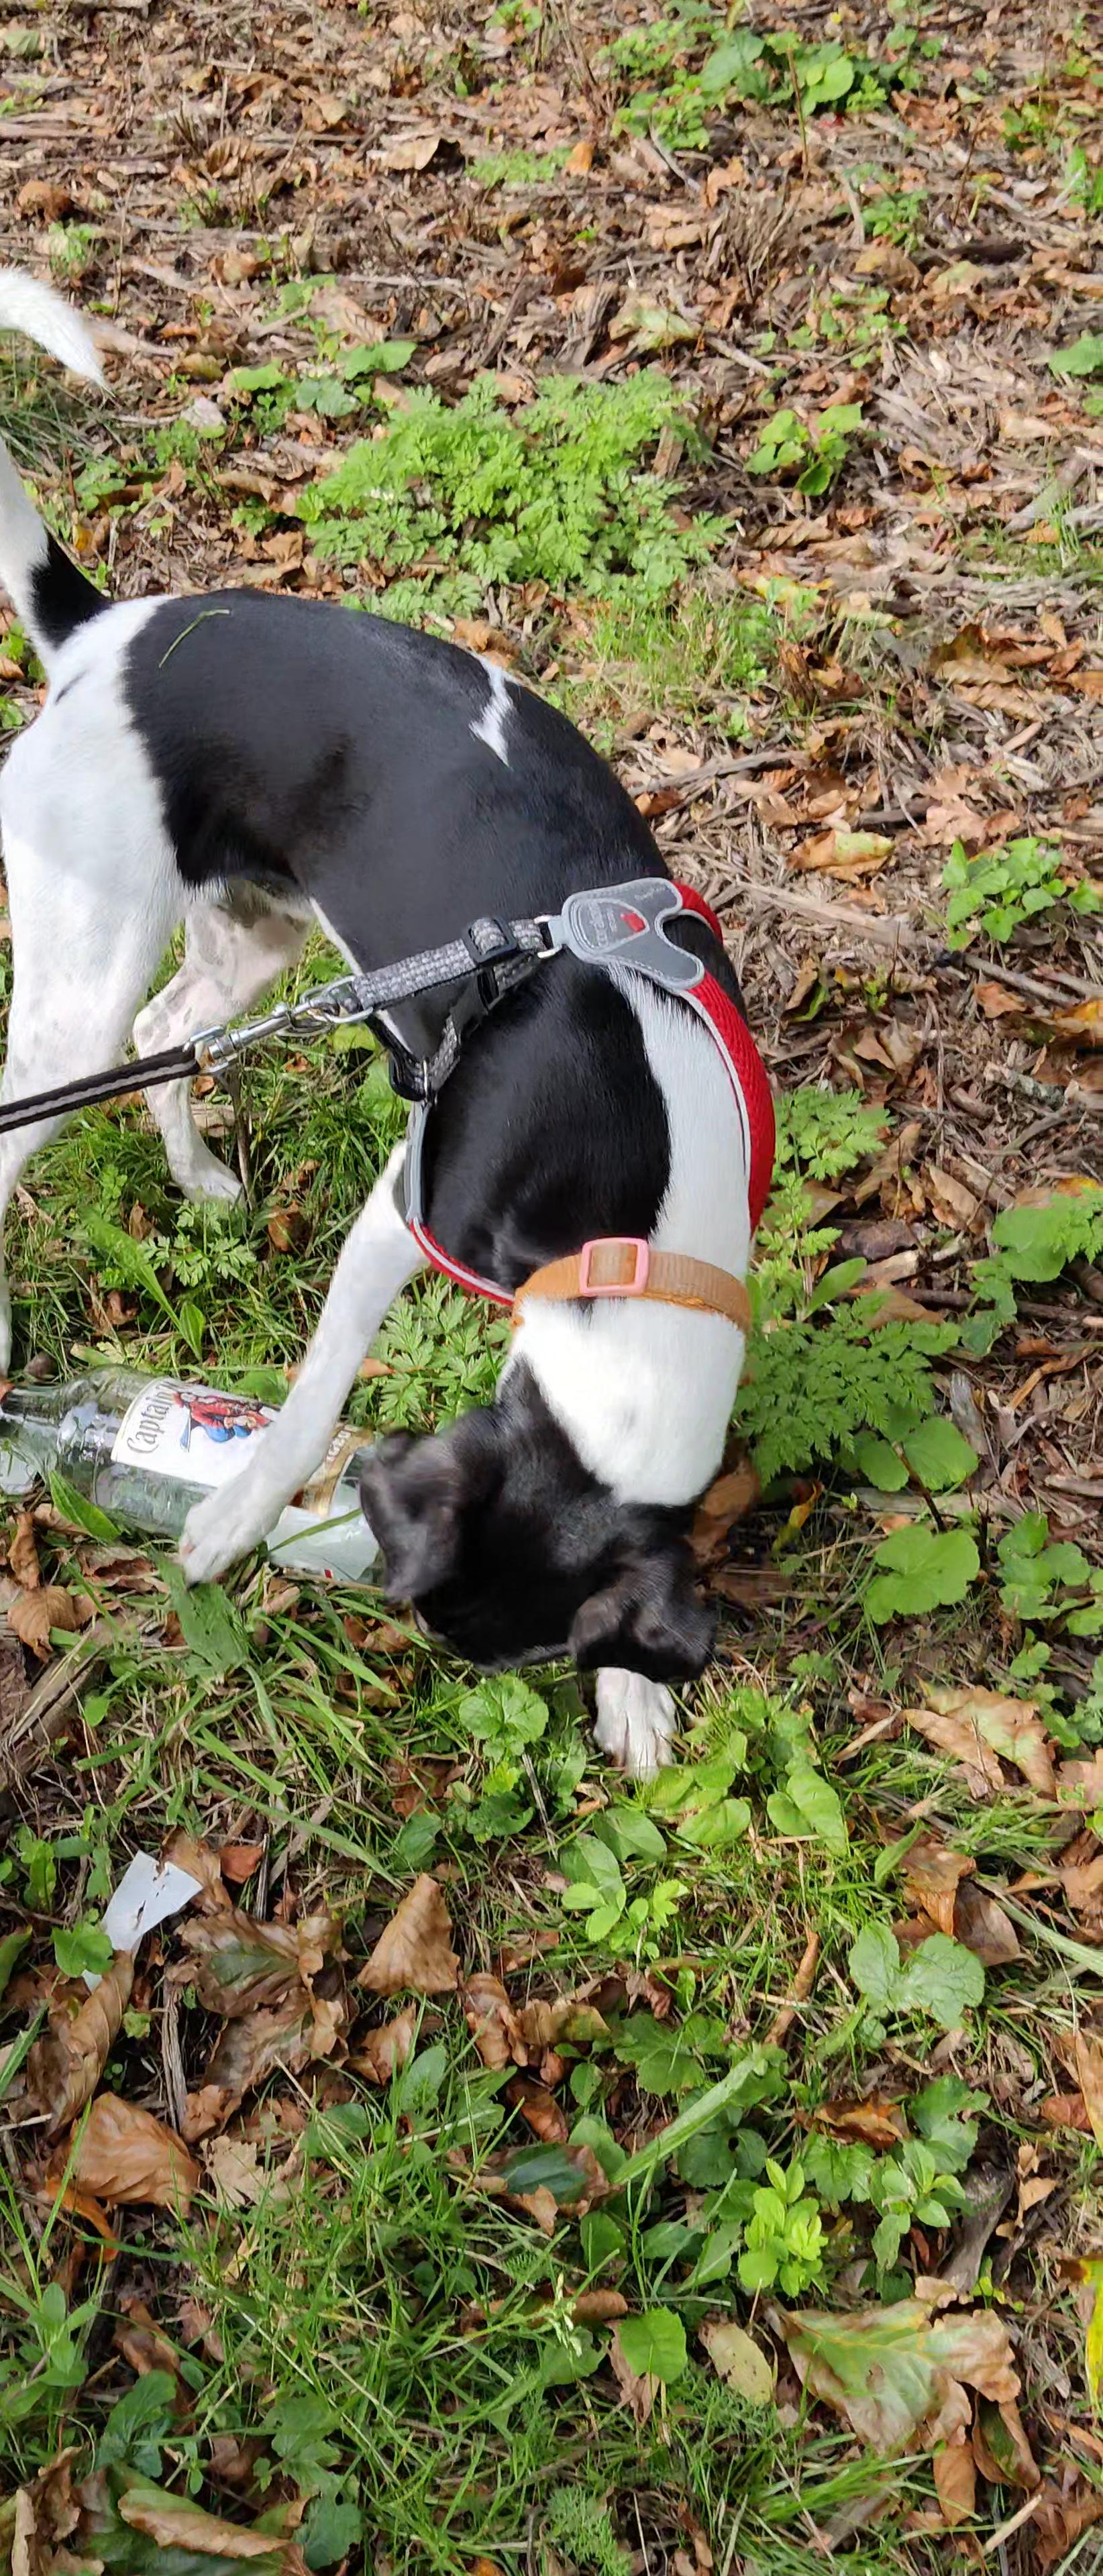Dog: (0, 215, 774, 1801)
